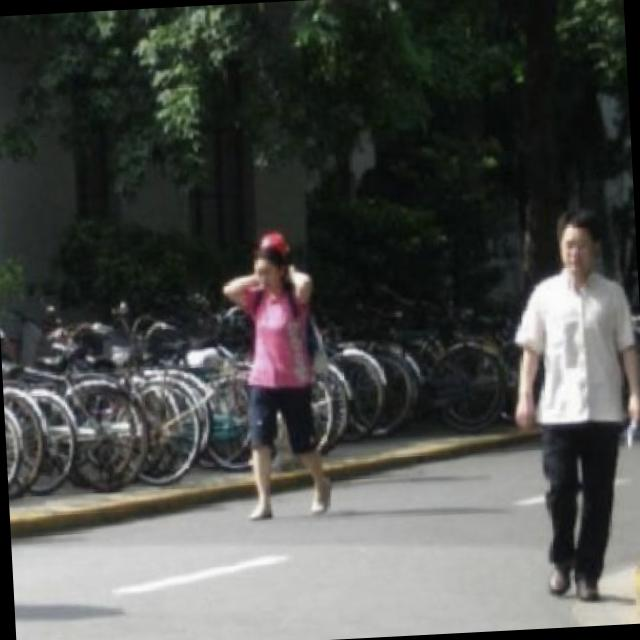Person: (505, 208, 640, 611), (212, 250, 338, 529)
